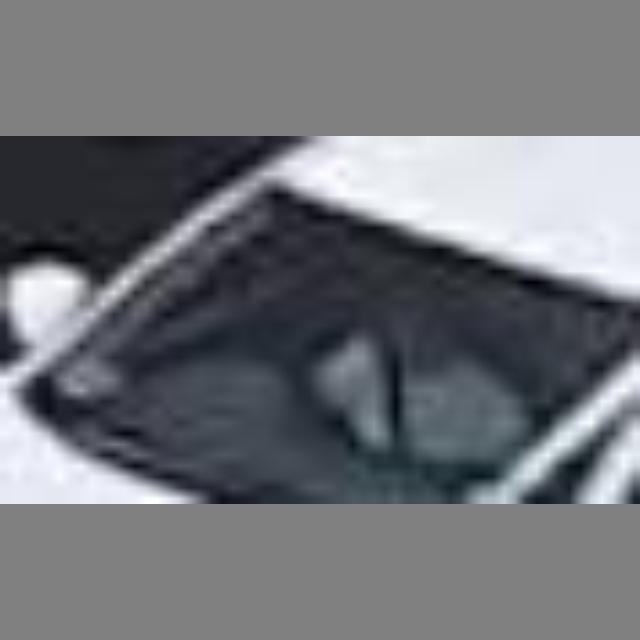pakai: (282, 244, 532, 461)
